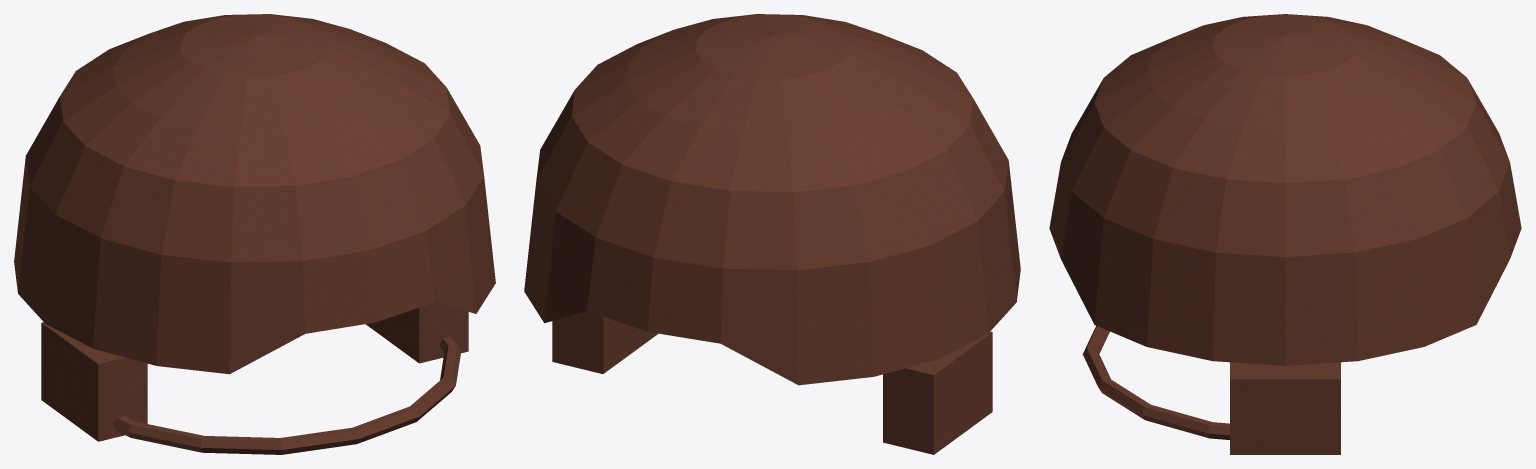
The model's file is leather_cap.fbx.
3 views of the same model, side by side, from view 1: azimuth 30°, elevation 25°; view 2: azimuth 150°, elevation 25°; view 3: azimuth 270°, elevation 25° (orthographic). The views are drawn at different scales.
Visible parts, largest first — view 1: leather_cap; view 2: leather_cap; view 3: leather_cap.
Part boxes in pixels (left/top/right/bottom): leather_cap: left=14, top=14, right=495, bottom=454; leather_cap: left=524, top=14, right=1020, bottom=454; leather_cap: left=1049, top=14, right=1521, bottom=454.
Bounding box in the file's own units: 0.34 × 0.263 × 0.34.
1 material, 1 textured.
